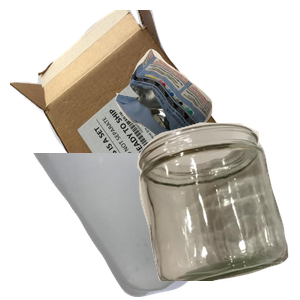cardboard: (10, 10, 227, 190)
glass: (135, 120, 300, 300)
plastic: (29, 153, 245, 300)
trash: (113, 46, 300, 189)
